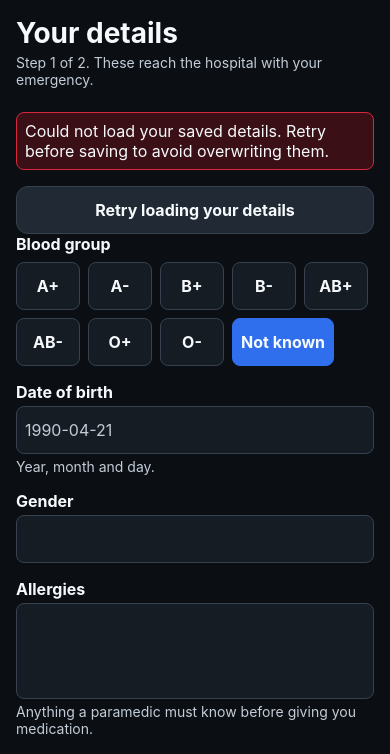
Test: patient profile prefill › retries the profile load and enables save after a successful response
What coordinates should you click on to do the following:
click the button with test id "profile-load-retry"
I would click on:
 (195, 210)
Its box is 16,186 -> 374,234.
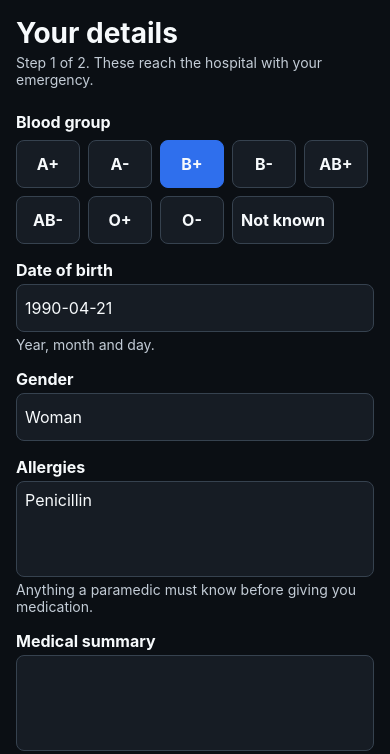
Now the message with test id "profile-load-error" is gone
Now the field with test id "profile-gender" holds "Woman", box 16,393 -> 374,441
